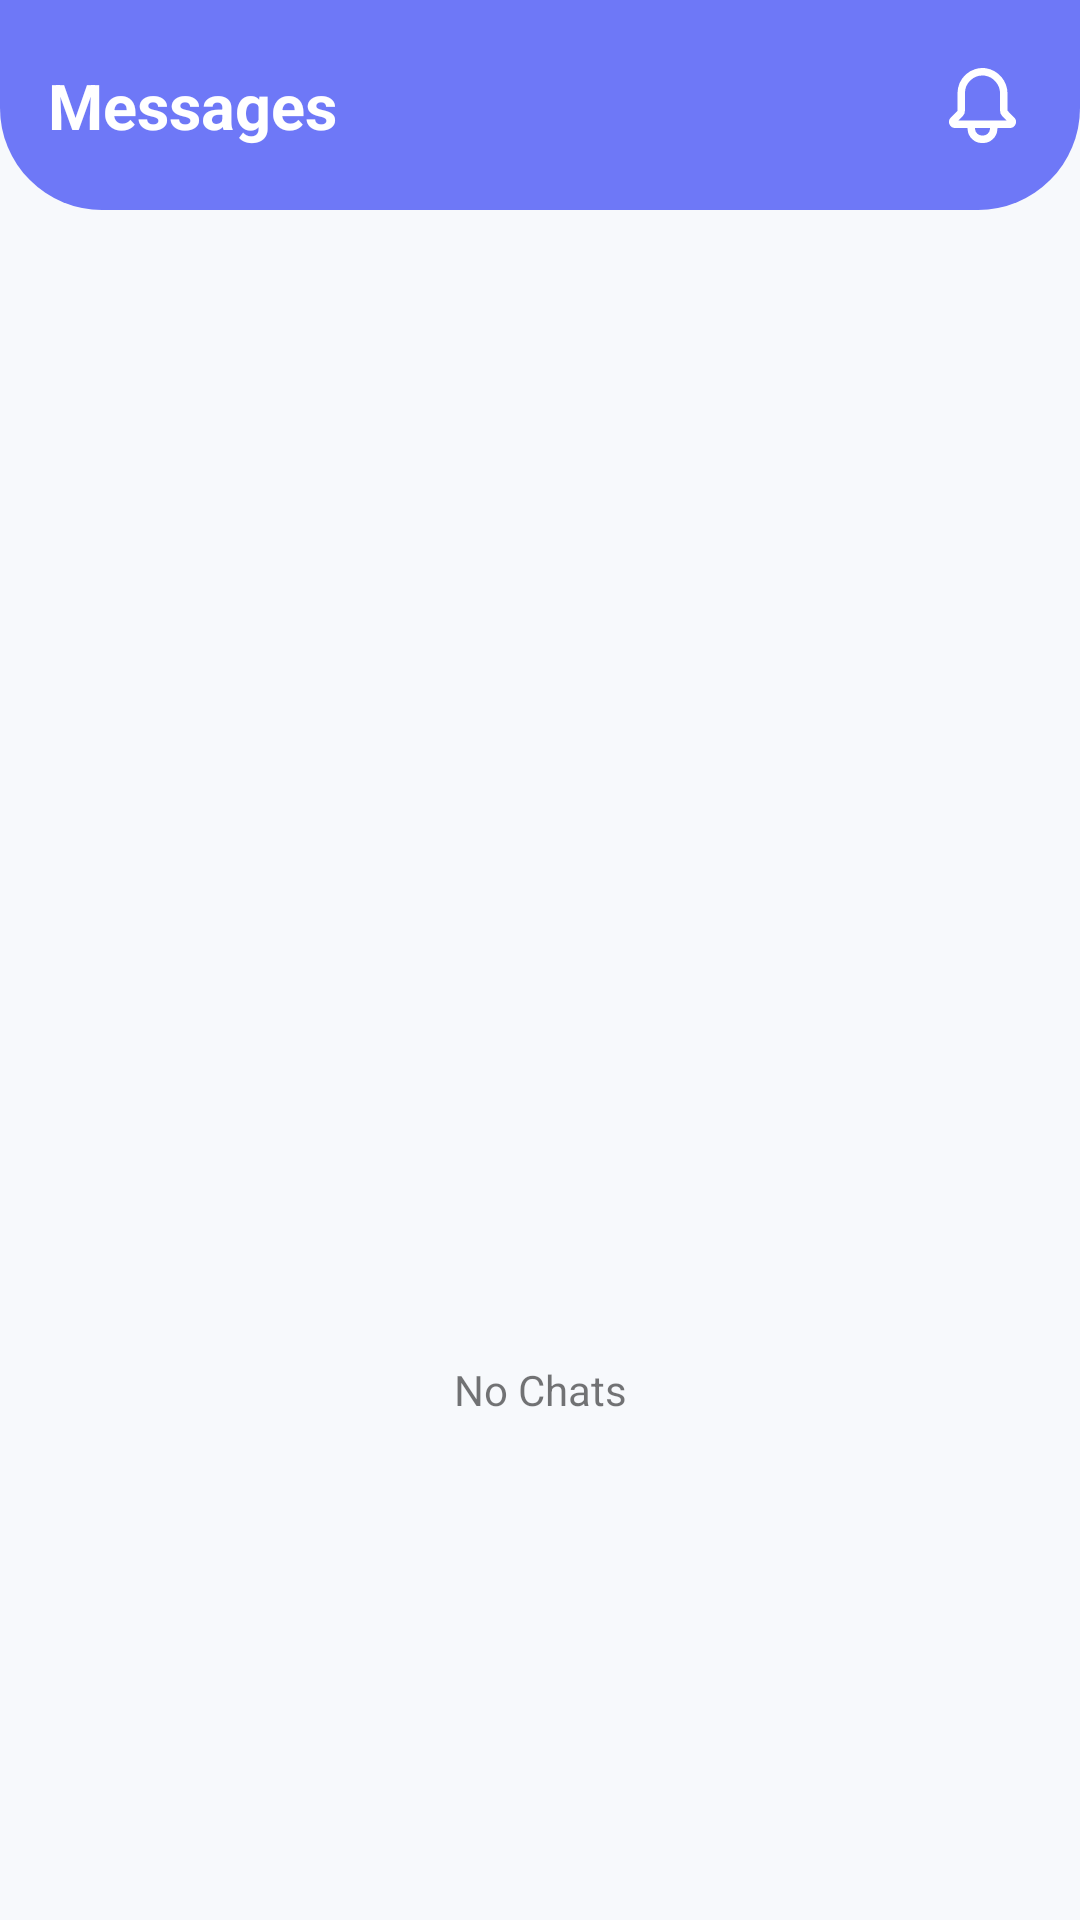

Icon bounding boxes for this 1080 × 1920 phone screenshot, format (x1, y1, x2, y2):
bell: (949, 68, 1016, 143)
